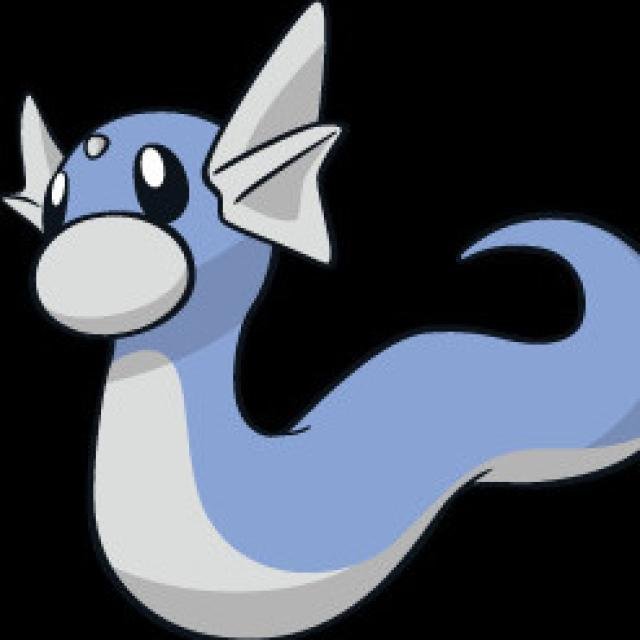Dratini: (0, 32, 486, 618)
